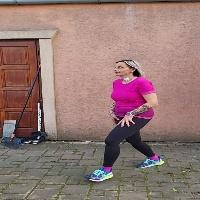lunges: (78, 54, 168, 181)
